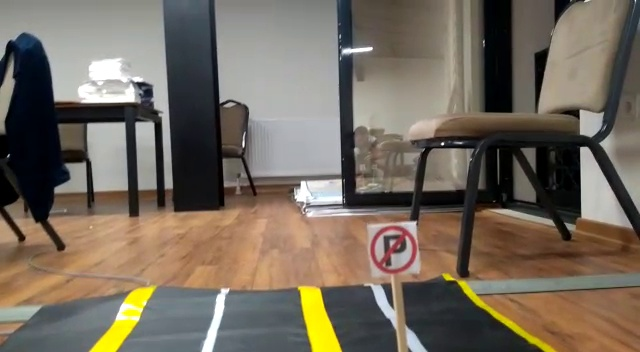park_yapilmaz: (368, 224, 421, 274)
